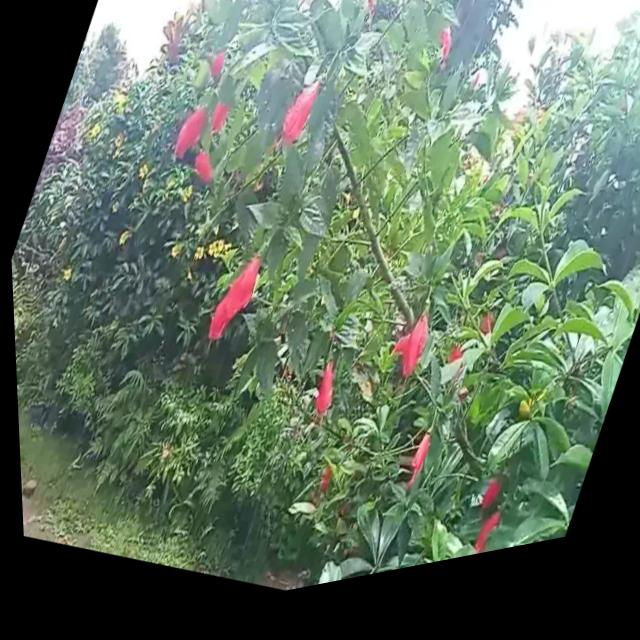Flower: (196, 240, 272, 361), (269, 72, 331, 170), (386, 311, 439, 398), (300, 361, 348, 434), (166, 102, 212, 175), (396, 436, 434, 505), (181, 149, 224, 205), (466, 520, 499, 572)
